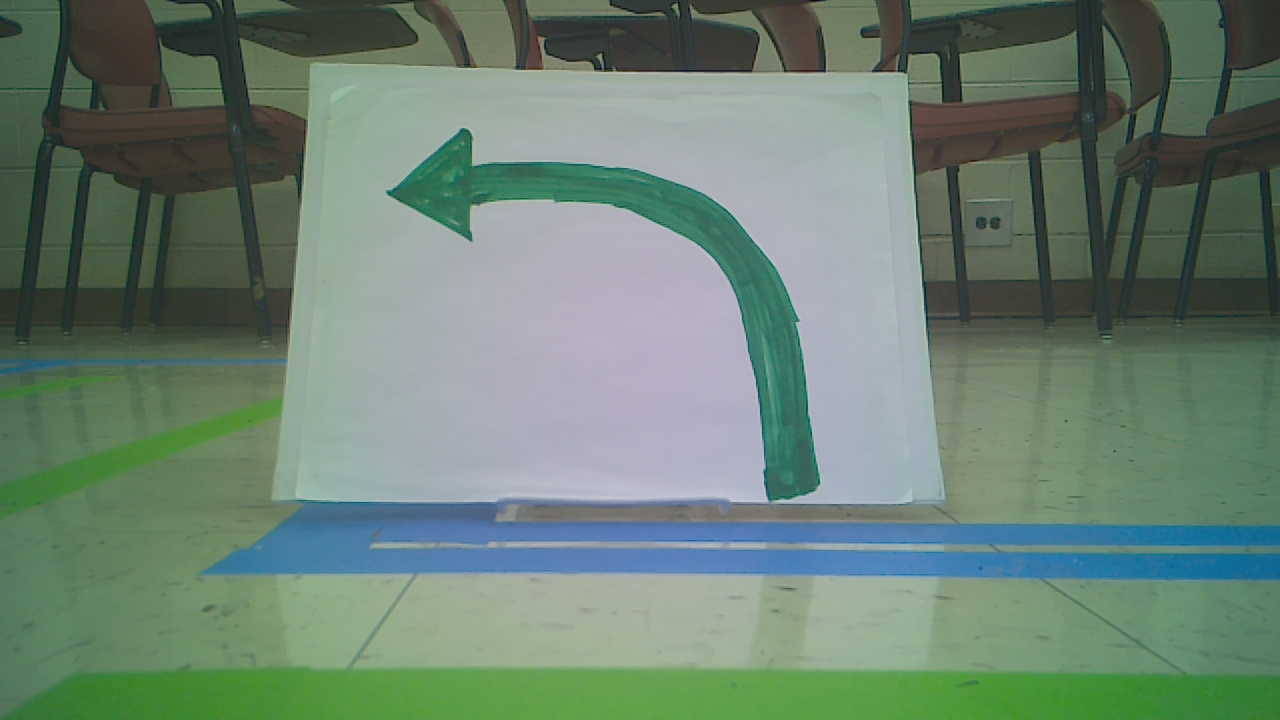greenline: (20, 671, 1239, 717)
left: (386, 121, 815, 501)
